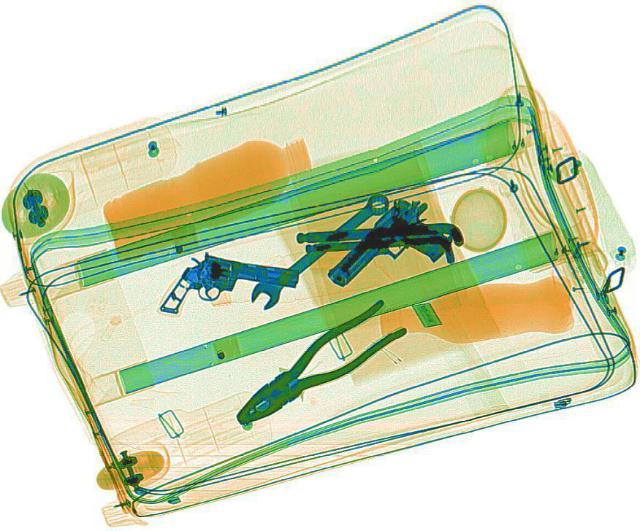Gun: (312, 188, 471, 311), (156, 245, 302, 334)
Pliers: (216, 296, 414, 436)
Wrench: (240, 186, 394, 313)
